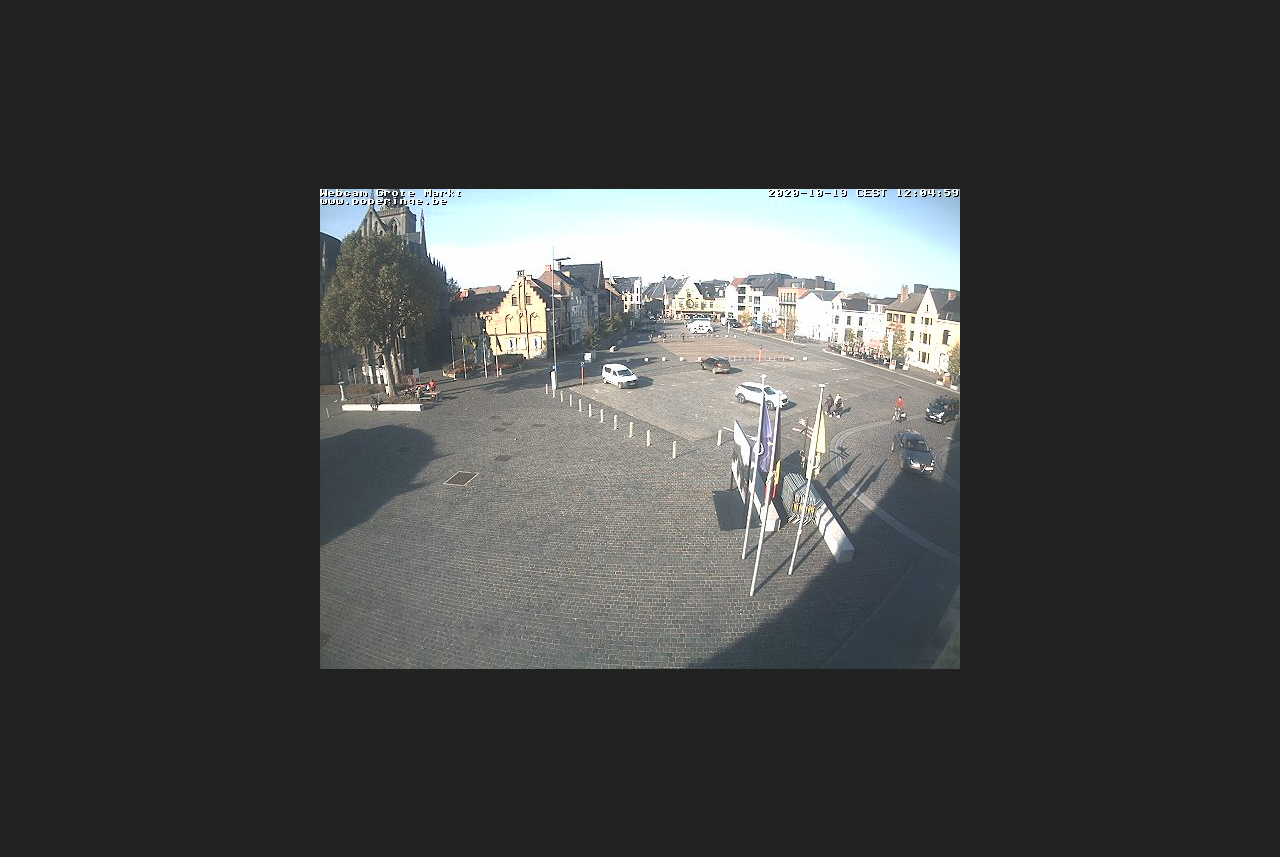no: (802, 395, 832, 483), (751, 395, 772, 482), (768, 401, 784, 502)
